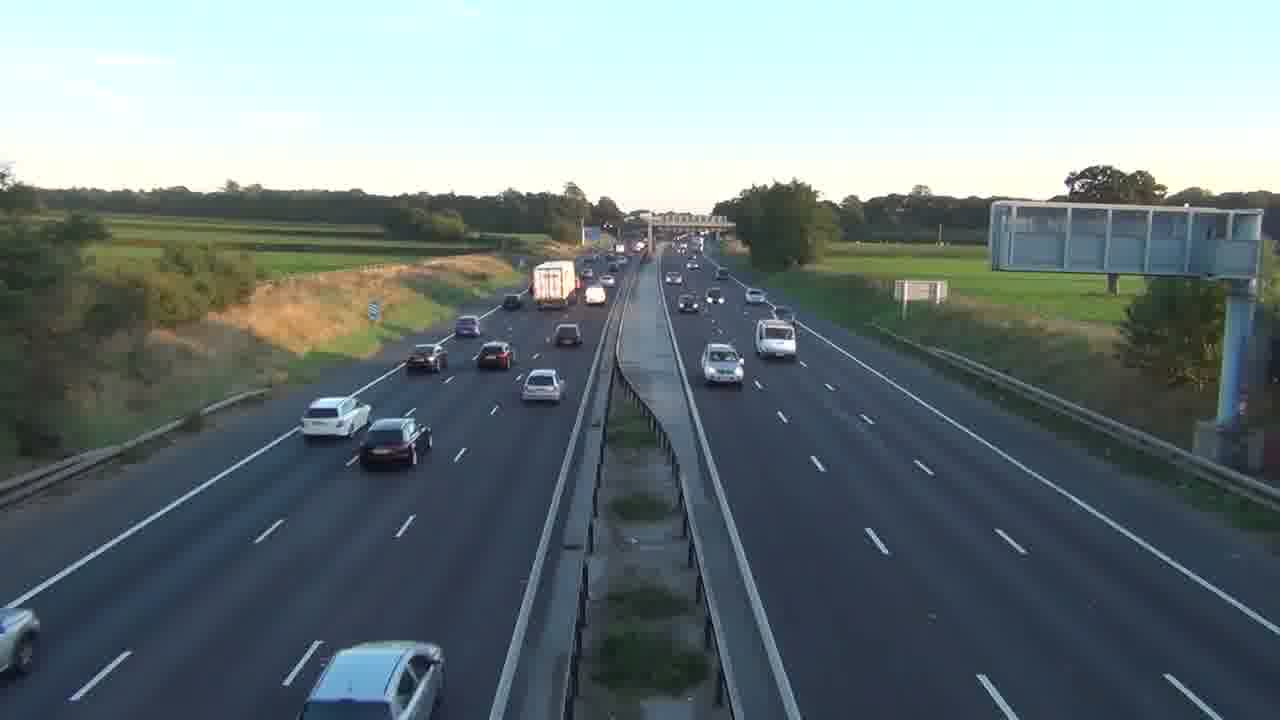car: (299, 639, 446, 719), (357, 416, 432, 470), (358, 416, 423, 471), (302, 396, 374, 439), (0, 604, 41, 678), (701, 341, 745, 386), (522, 368, 564, 404), (474, 339, 514, 370), (554, 322, 583, 348)
truck: (531, 259, 578, 310)
